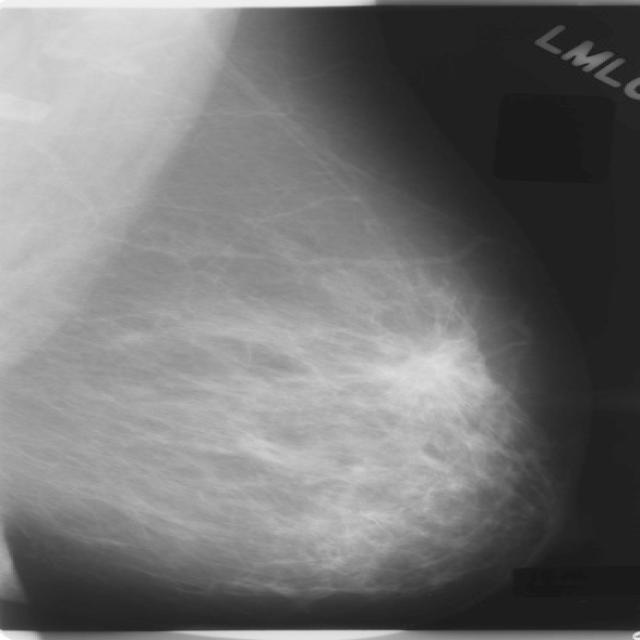tumour: (358, 324, 492, 396)
